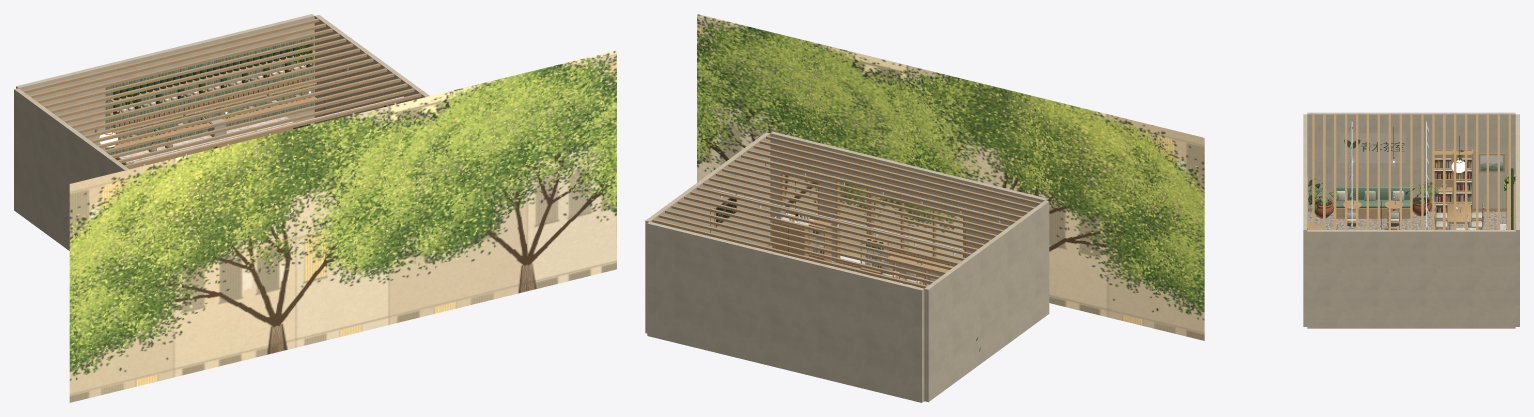
File: aoki.glb
3 renders of one model, left to right at view 1: azimuth 30°, elevation 25°; view 2: azimuth 150°, elevation 25°; view 3: azimuth 270°, elevation 25°, orthographic. The views are drawn at different scales.
Parts seen in each view (by area): view 1: WALL_front_VIEW_aok_window_view, aok_wood, WALL_left_aok_wall, WALL_back_aok_wall, WALL_right_aok_wall, aok_tile_b, aok_tile_a, aok_tin, aok_stone, aok_print, aok_vcm; view 2: WALL_front_VIEW_aok_window_view, WALL_back_aok_wall, aok_wood, WALL_left_aok_wall, WALL_front_aok_wall, WALL_right_aok_wall, WALL_front_aok_wood, aok_vcm; view 3: WALL_right_aok_wall, WALL_left_aok_wall, aok_wood, WALL_left_aok_print, aok_floor, aok_books, WALL_back_aok_wall, WALL_front_aok_wall, aok_fab_sage, aok_fab_cream, aok_vcm, S_ph_potted_plant_02_0 (+3 smaller).
Boxes of the visible parts, left/top/right/bottom form: WALL_front_VIEW_aok_window_view: left=69, top=50, right=616, bottom=402; aok_wood: left=22, top=18, right=421, bottom=169; WALL_left_aok_wall: left=14, top=88, right=129, bottom=250; WALL_back_aok_wall: left=16, top=14, right=314, bottom=158; WALL_right_aok_wall: left=314, top=15, right=429, bottom=123; aok_tile_b: left=105, top=37, right=308, bottom=154; aok_tile_a: left=111, top=36, right=313, bottom=154; aok_tin: left=113, top=43, right=312, bottom=129; aok_stone: left=118, top=116, right=293, bottom=163; aok_print: left=115, top=46, right=312, bottom=127; aok_vcm: left=94, top=61, right=403, bottom=165; WALL_front_VIEW_aok_window_view: left=697, top=14, right=1204, bottom=340; WALL_back_aok_wall: left=647, top=221, right=924, bottom=402; aok_wood: left=652, top=135, right=1041, bottom=288; WALL_left_aok_wall: left=924, top=200, right=1049, bottom=402; WALL_front_aok_wall: left=770, top=131, right=1047, bottom=284; WALL_right_aok_wall: left=645, top=132, right=770, bottom=333; WALL_front_aok_wood: left=780, top=173, right=965, bottom=268; aok_vcm: left=710, top=157, right=1006, bottom=257; WALL_right_aok_wall: left=1307, top=230, right=1515, bottom=328; WALL_left_aok_wall: left=1307, top=112, right=1515, bottom=208; aok_wood: left=1312, top=114, right=1515, bottom=229; WALL_left_aok_print: left=1340, top=133, right=1503, bottom=171; aok_floor: left=1308, top=211, right=1506, bottom=229; aok_books: left=1434, top=158, right=1471, bottom=212; WALL_back_aok_wall: left=1515, top=114, right=1519, bottom=326; WALL_front_aok_wall: left=1303, top=114, right=1307, bottom=326; aok_fab_sage: left=1336, top=186, right=1410, bottom=207; aok_fab_cream: left=1336, top=191, right=1483, bottom=229; aok_vcm: left=1347, top=121, right=1467, bottom=229; S_ph_potted_plant_02_0: left=1308, top=178, right=1338, bottom=218.
Bounding box in the file's own units: 17 × 6.5 × 9.64.
Materials: 34 (29 with a texture image).
